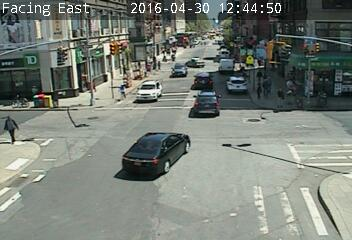neg: (15, 16, 29, 35), (3, 11, 15, 27), (13, 66, 25, 82), (239, 20, 251, 35), (233, 137, 243, 151), (135, 36, 145, 49), (28, 48, 38, 61), (72, 70, 82, 83), (92, 115, 102, 128), (105, 35, 114, 48), (183, 21, 192, 33), (15, 93, 23, 104), (202, 92, 209, 102), (207, 24, 214, 34), (66, 49, 73, 58), (163, 38, 169, 46), (45, 100, 50, 106)
pos: (257, 72, 279, 101), (270, 87, 288, 112), (281, 76, 297, 98), (251, 83, 264, 100), (115, 80, 128, 97), (252, 68, 263, 83)
